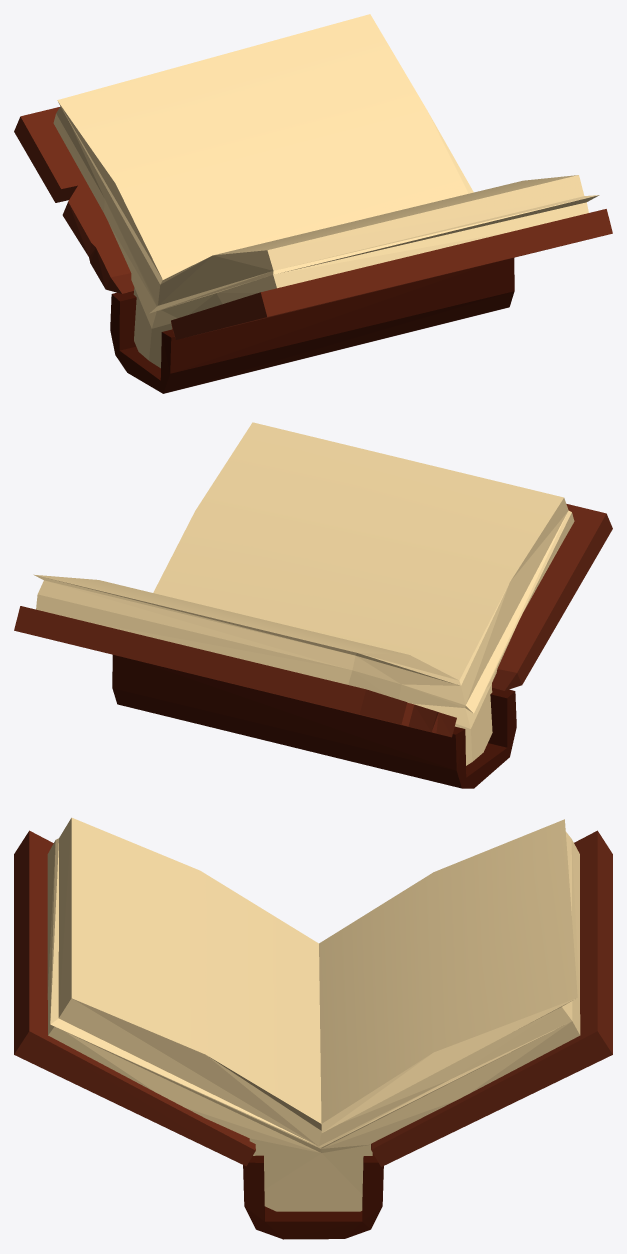
File: SM_Book_B 1.fbx
3 renders of one model, top to bottom at view 1: azimuth 30°, elevation 25°; view 2: azimuth 150°, elevation 25°; view 3: azimuth 270°, elevation 25°, orthographic. The views are drawn at different scales.
Visible parts, largest first — view 1: Book_B; view 2: Book_B; view 3: Book_B.
Boxes of the visible parts, x1=… form: Book_B: x1=14, y1=14, x2=612, y2=393; Book_B: x1=14, y1=422, x2=612, y2=788; Book_B: x1=14, y1=817, x2=612, y2=1239.
Size of the model in its own units: 51.84 by 29.12 by 65.25.
